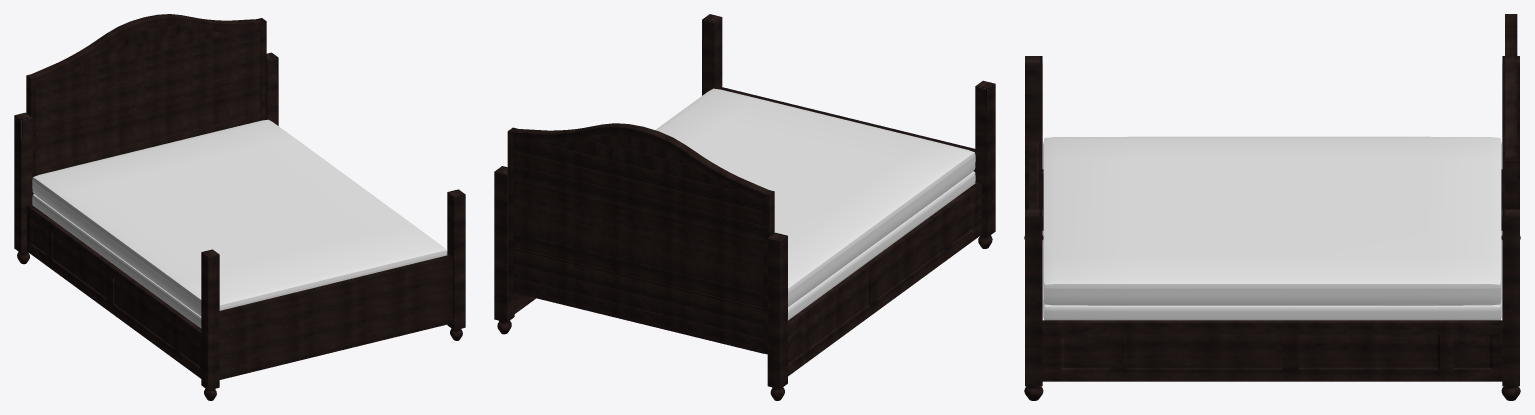
File: copper_grove.fbx
3 views of the same model, side by side, from view 1: azimuth 30°, elevation 25°; view 2: azimuth 150°, elevation 25°; view 3: azimuth 270°, elevation 25° (orthographic). The views are drawn at different scales.
Parts seen in each view (by area): view 1: Copper Grove Aanekoski; view 2: Copper Grove Aanekoski; view 3: Copper Grove Aanekoski.
Part boxes in pixels (bbox=[...]): Copper Grove Aanekoski: bbox=[14, 14, 465, 400]; Copper Grove Aanekoski: bbox=[494, 14, 995, 400]; Copper Grove Aanekoski: bbox=[1024, 14, 1520, 400].
Bounding box in the file's own units: 1.78 × 1.42 × 2.33.
